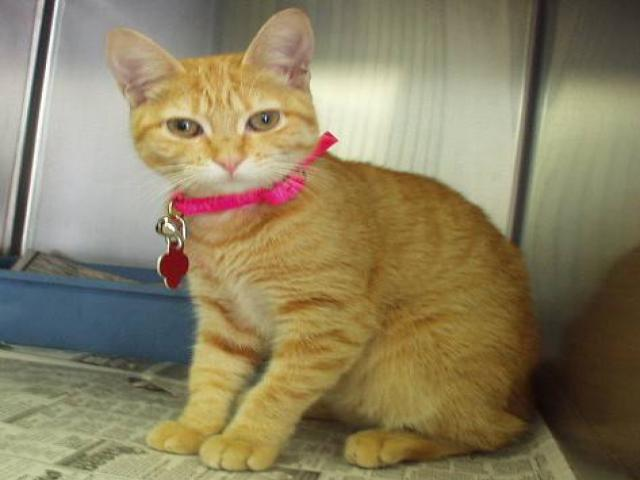cat: (118, 8, 539, 479)
